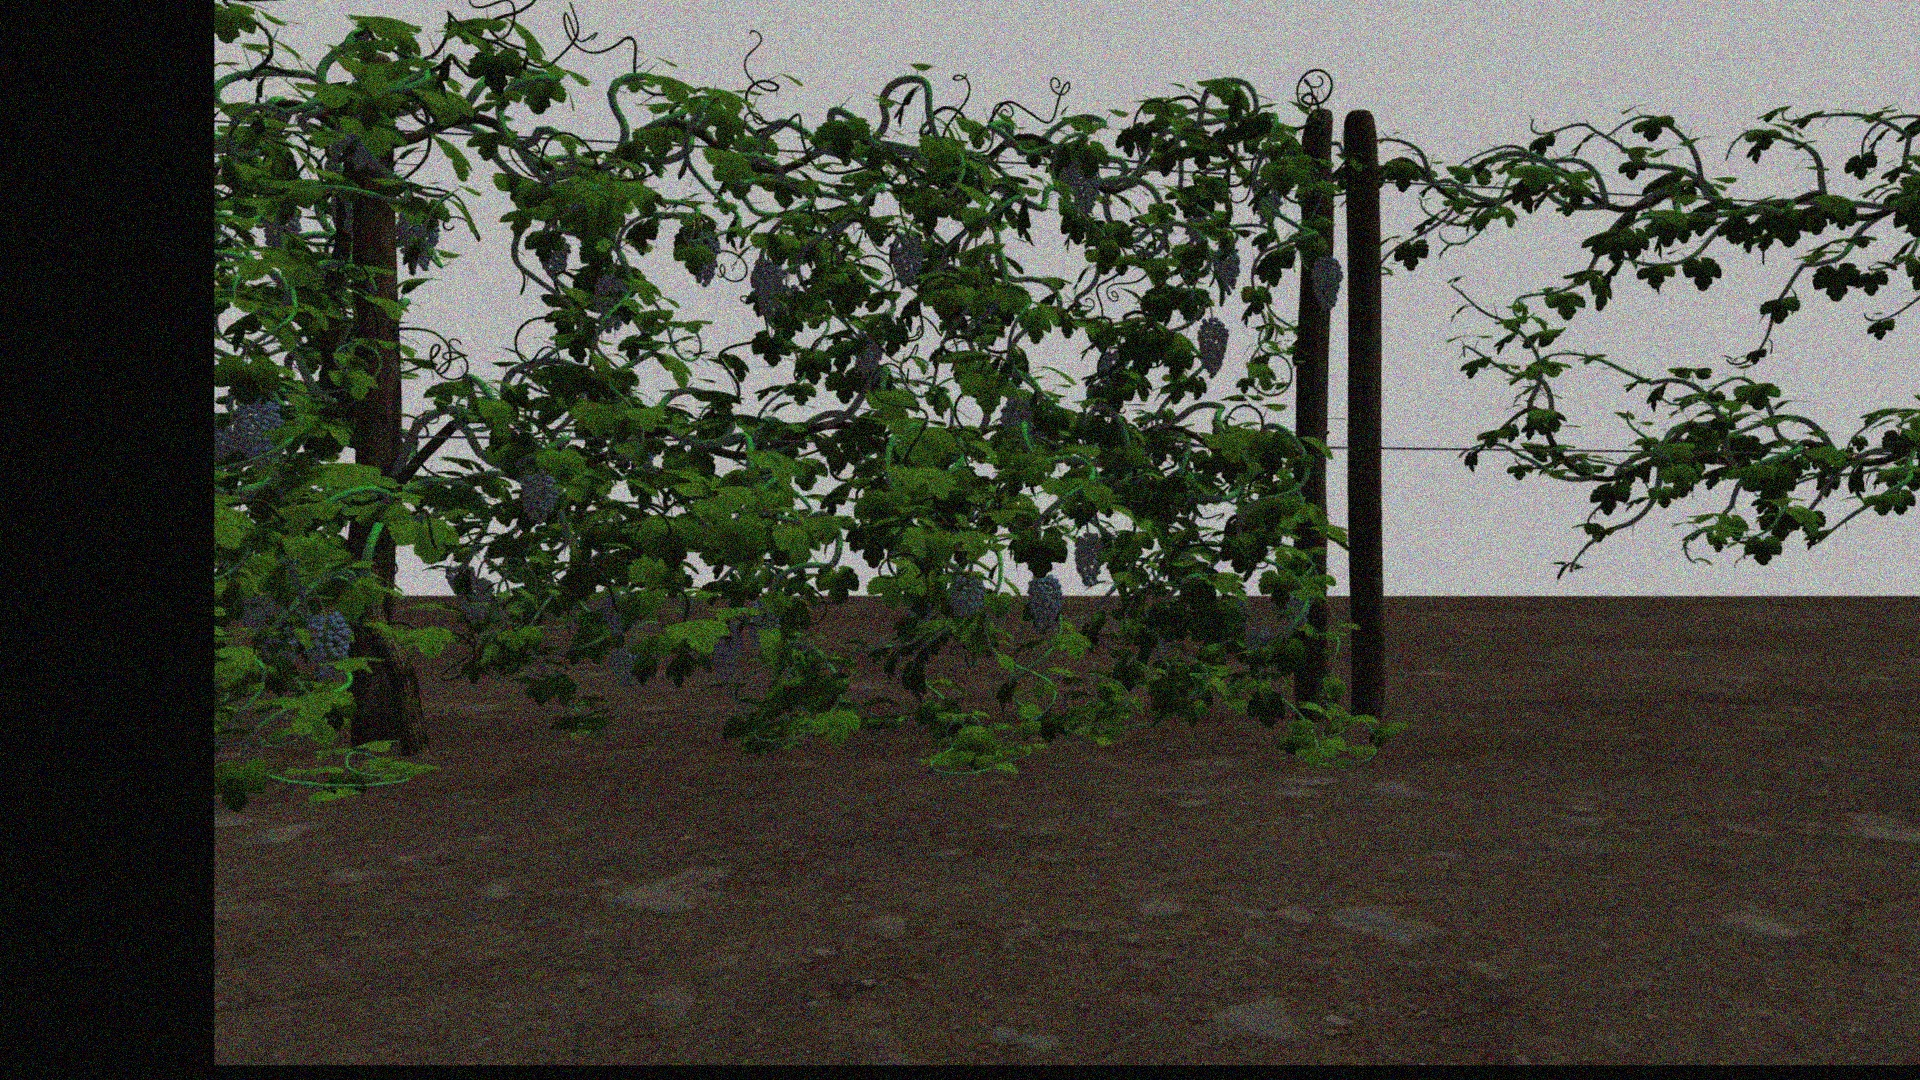grape: (232, 401, 284, 468), (302, 611, 349, 683), (394, 208, 440, 273), (520, 469, 560, 524), (746, 600, 781, 662), (750, 258, 785, 319), (686, 229, 721, 287), (709, 621, 742, 683), (1027, 574, 1062, 633), (1309, 255, 1342, 315), (1196, 318, 1229, 378), (889, 233, 924, 287), (593, 274, 625, 332), (1073, 531, 1105, 587), (948, 574, 985, 618), (462, 578, 495, 624), (608, 647, 644, 688), (600, 593, 632, 636), (855, 334, 882, 380), (1072, 171, 1100, 214), (1213, 245, 1240, 289), (1283, 593, 1309, 632), (545, 237, 571, 274), (1000, 400, 1030, 427), (1246, 624, 1270, 650), (1060, 164, 1080, 185)
